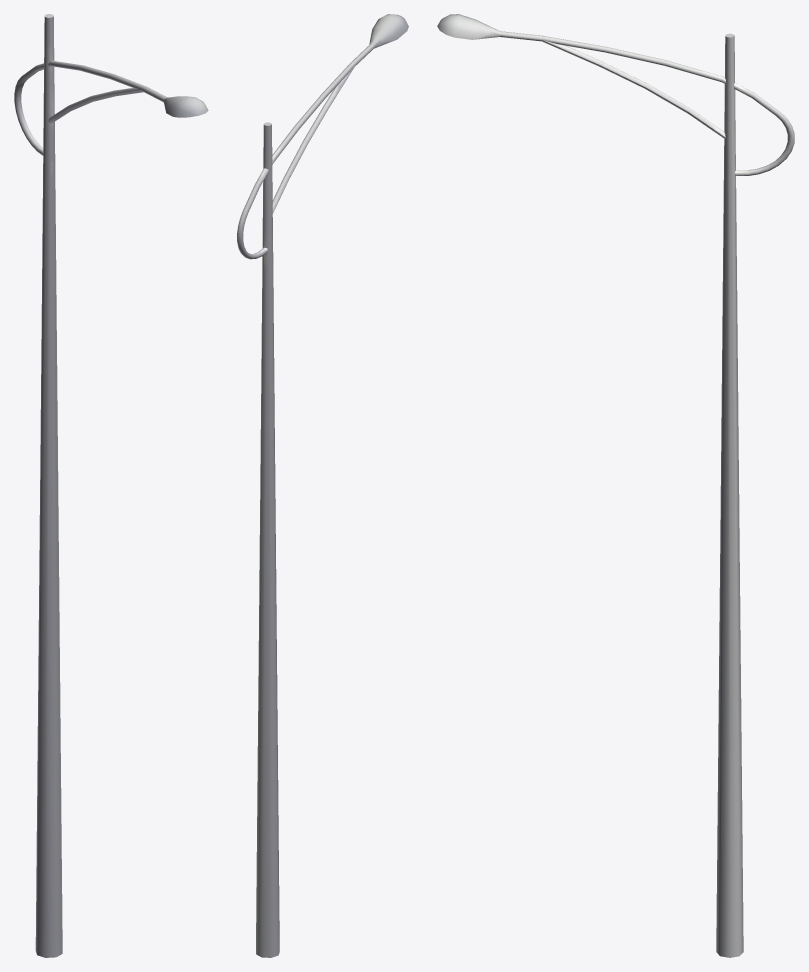
The model's file is deng.FBX.
3 views of the same model, side by side, from view 1: azimuth 30°, elevation 25°; view 2: azimuth 150°, elevation 25°; view 3: azimuth 270°, elevation 25° (orthographic). The views are drawn at different scales.
Visible parts, largest first — view 1: deng; view 2: deng; view 3: deng.
Part boxes in pixels (<box>): deng: <box>14,14,208,957</box>; deng: <box>237,14,408,957</box>; deng: <box>437,14,794,957</box>.
Bounding box in the file's own units: 0.6336 × 17.2 × 5.96.
Materials: 1 (1 with a texture image).
